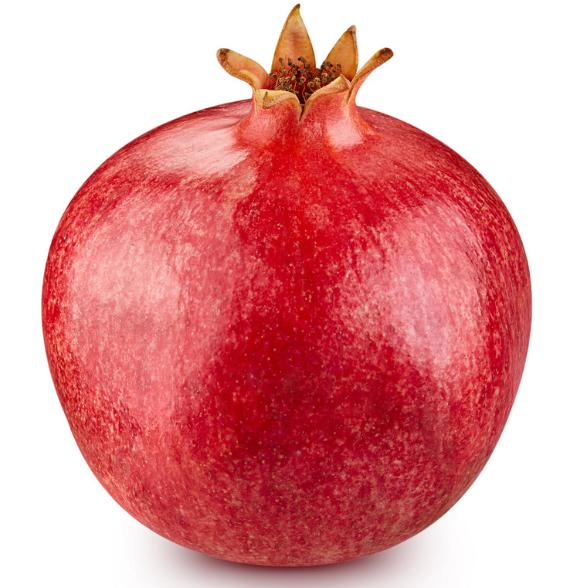pomegranate_A: (40, 3, 532, 568)
